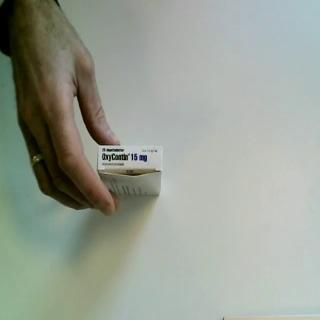oxycontin15mg: (96, 144, 164, 199)
